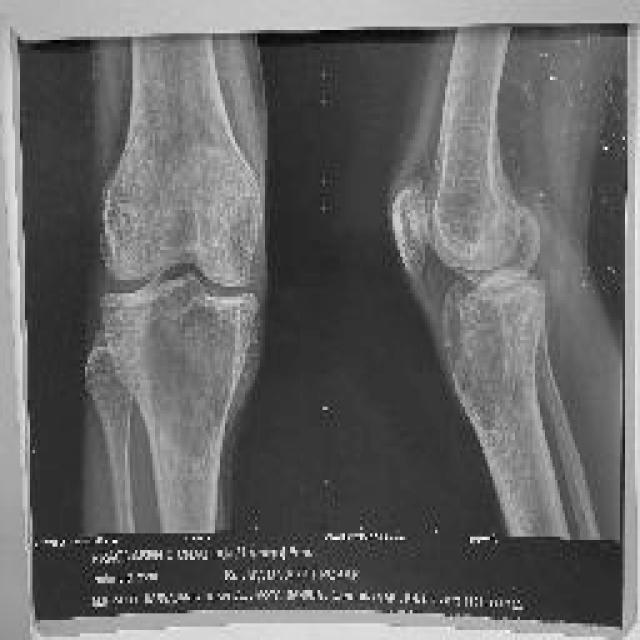bone-cancer: (136, 275, 238, 458), (442, 282, 512, 436)
